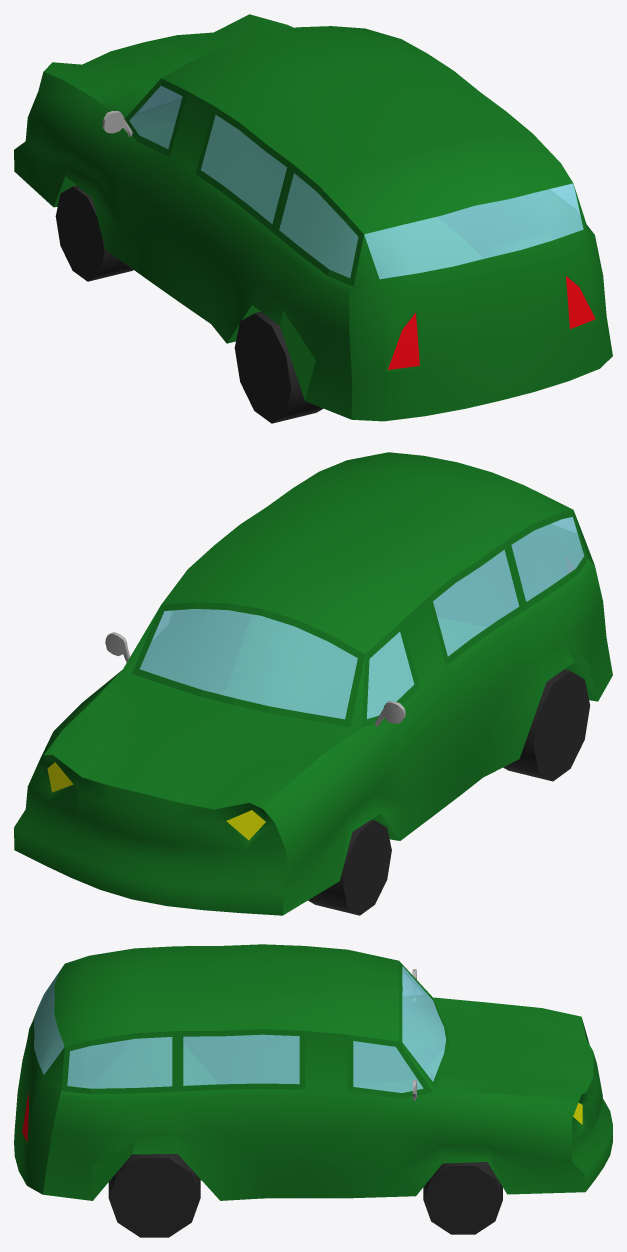
File: beatercar.FBX
3 views of the same model, one above another, from view 1: azimuth 30°, elevation 25°; view 2: azimuth 150°, elevation 25°; view 3: azimuth 270°, elevation 25° (orthographic). The views are drawn at different scales.
Visible parts, largest first — view 1: Car, Cylinder01.Cylinder03, Cylinder01; view 2: Car, Cylinder01.Cylinder03, Cylinder01; view 3: Car, Cylinder01.Cylinder04, Cylinder01.Cylinder02.
Part boxes in pixels (box(x1,y1,x2,y2)): Car: box(14, 14, 612, 421); Cylinder01.Cylinder03: box(234, 311, 323, 423); Cylinder01: box(55, 185, 133, 281); Car: box(14, 452, 612, 915); Cylinder01.Cylinder03: box(503, 669, 590, 781); Cylinder01: box(308, 819, 391, 915); Car: box(14, 944, 612, 1200); Cylinder01.Cylinder04: box(108, 1154, 200, 1237); Cylinder01.Cylinder02: box(423, 1162, 502, 1234).
Size of the model in its own units: 50.34 by 40.21 by 107.
